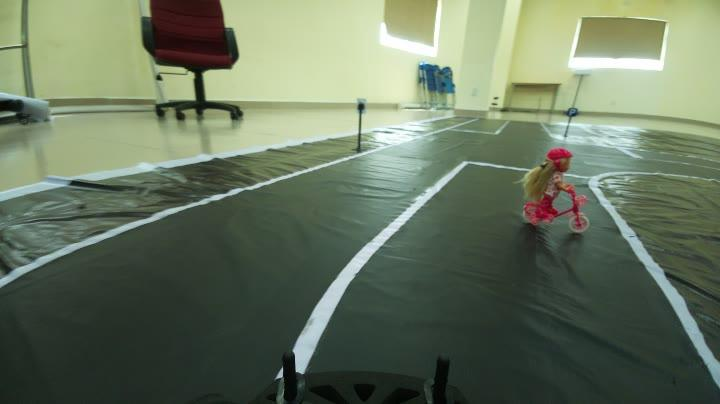pedestrian: (523, 144, 593, 235)
